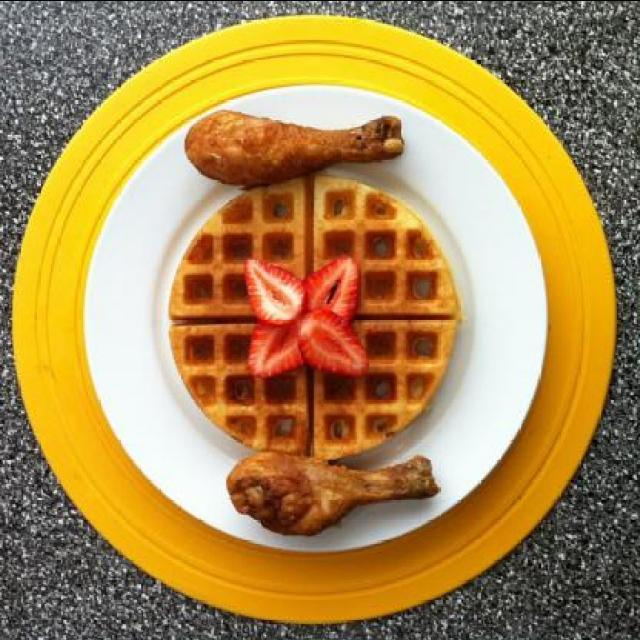Waffle: (167, 174, 465, 460)
